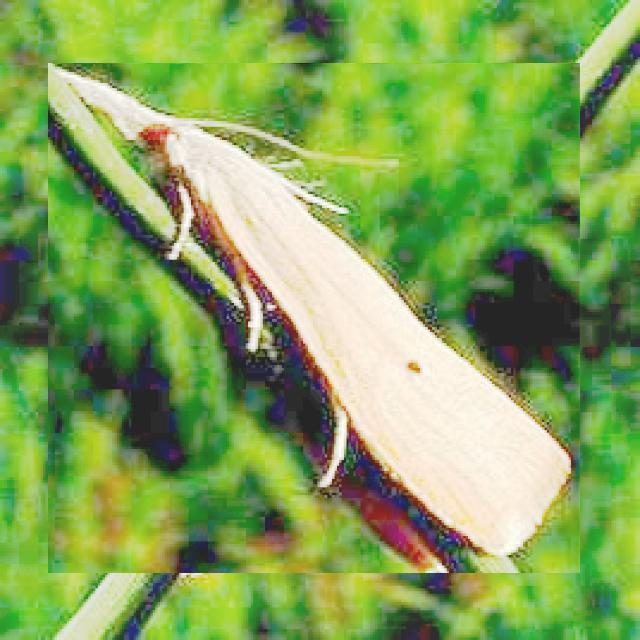stem-borer: (49, 64, 579, 573)
